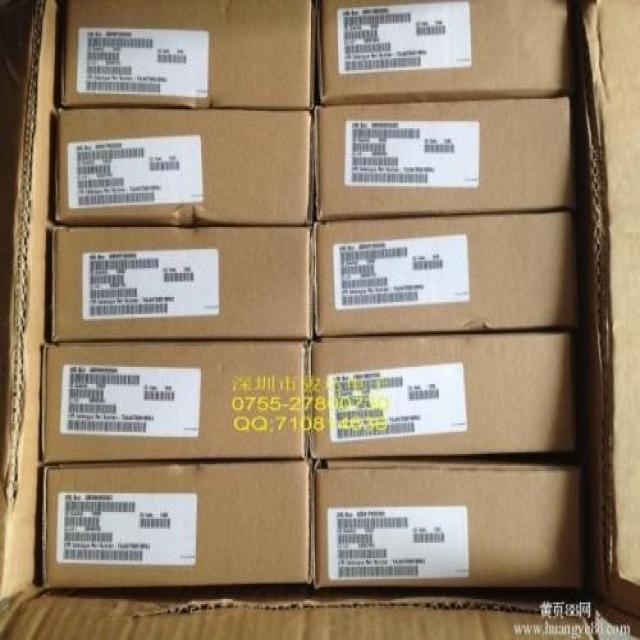box: (0, 0, 640, 640), (312, 459, 582, 589), (44, 459, 312, 589), (310, 329, 577, 459), (314, 210, 579, 336), (314, 96, 575, 222), (42, 343, 310, 463), (55, 108, 314, 227), (52, 227, 314, 343), (60, 0, 316, 111), (316, 0, 570, 106)
